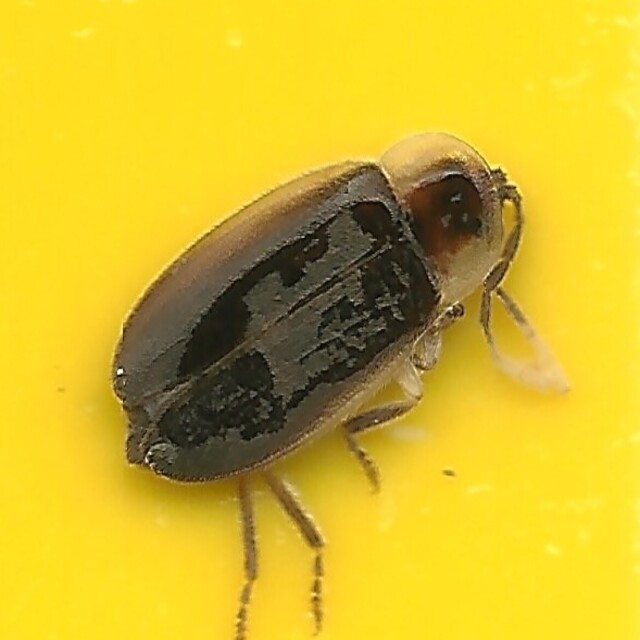Coleoptera: (109, 138, 531, 502)
